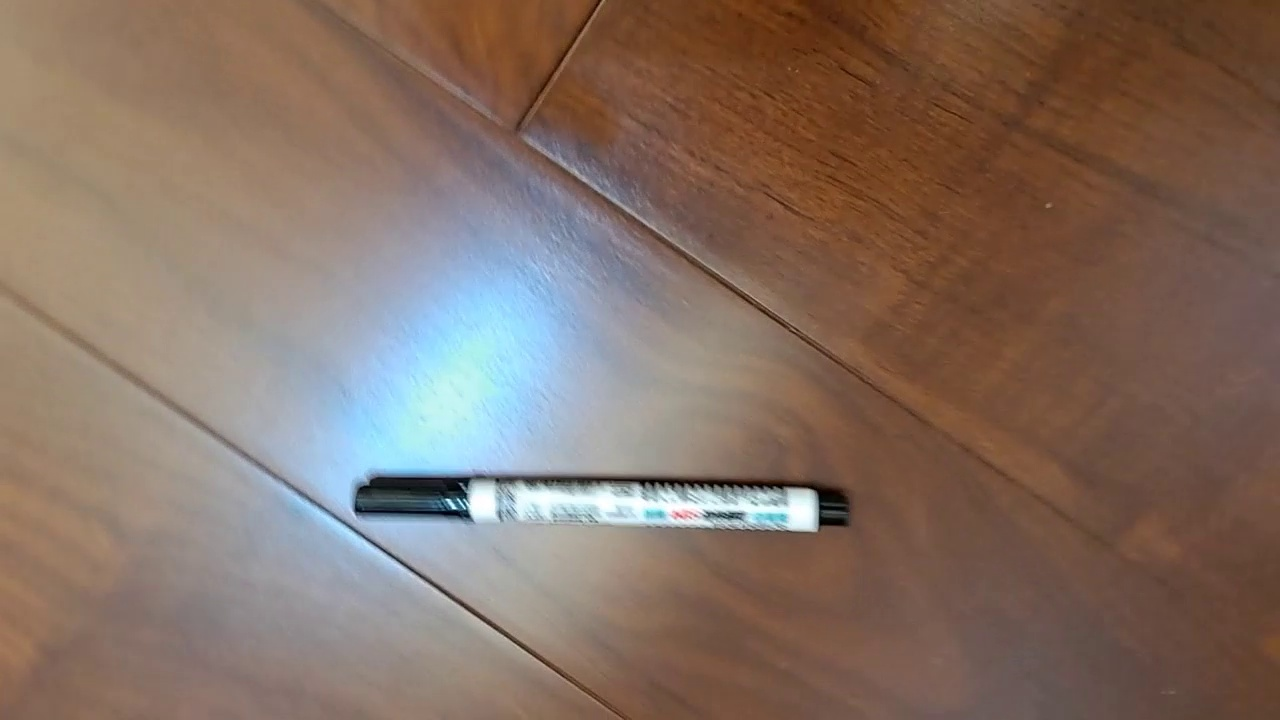pen: (351, 473, 851, 534)
